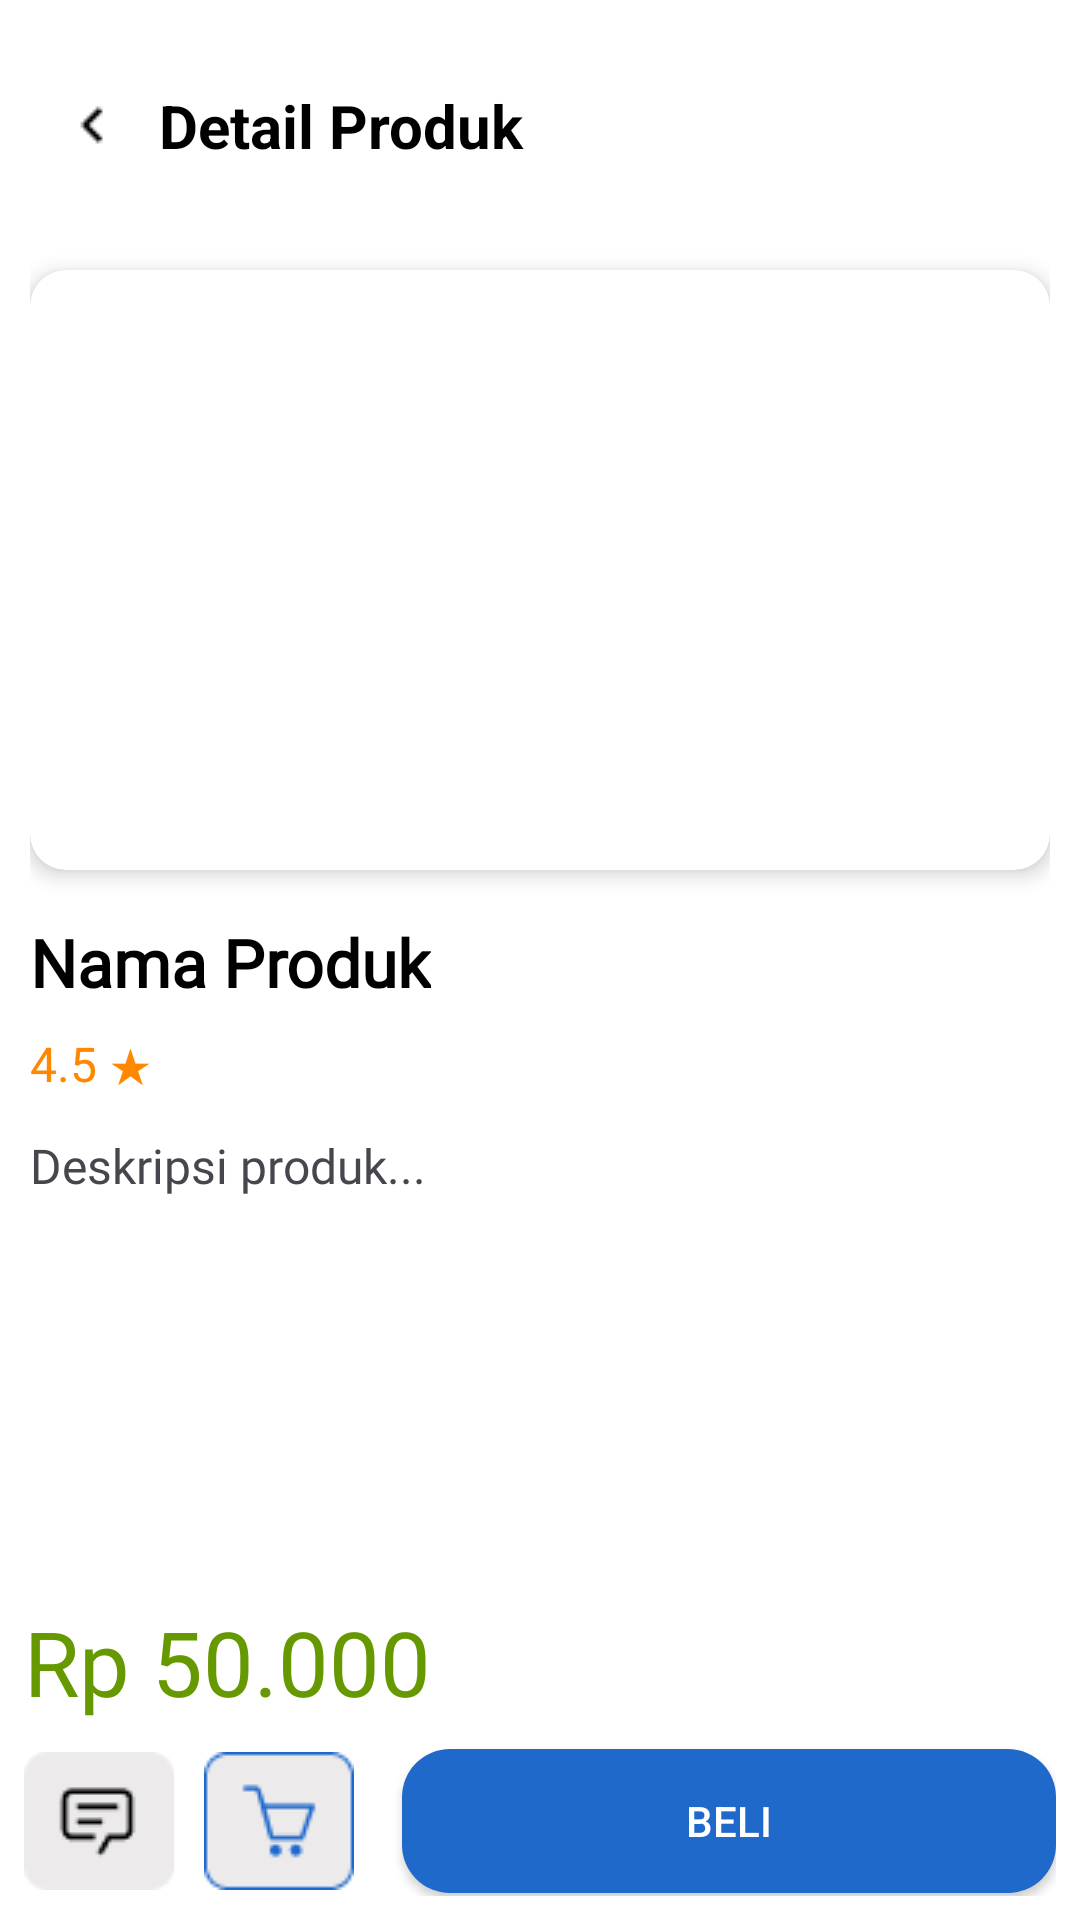

Named icons in this screenshot (1080px x 1920px) and their bounding boxes, (x1, y1, x2, y2):
chatbaru: (59, 1787, 136, 1858)
Kembali: (80, 106, 103, 144)
keranjangbaru: (204, 1752, 354, 1890)
